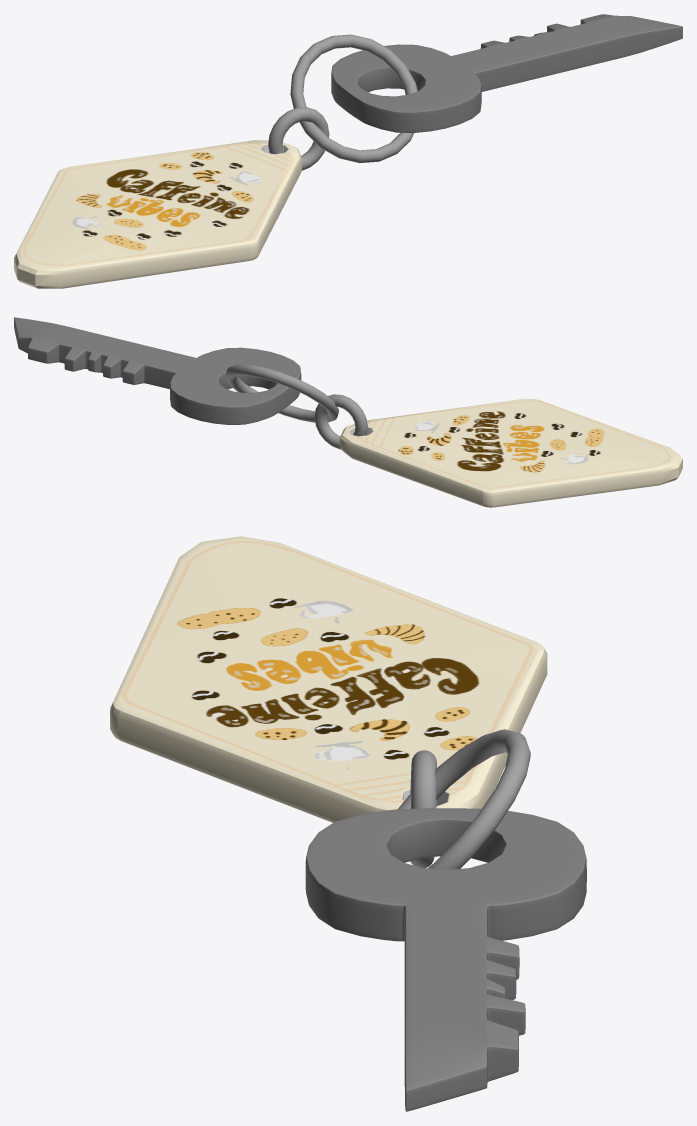
Rendered from llave_almacen_02.fbx.
The picture shows the model from 3 angles, top to bottom: view 1: azimuth 30°, elevation 25°; view 2: azimuth 150°, elevation 25°; view 3: azimuth 270°, elevation 25°; orthographic projection. The views are drawn at different scales.
Visible parts, largest first — view 1: pCube20, pCube18, pTorus1, pTorus2; view 2: pCube20, pCube18, pTorus1, pTorus2; view 3: pCube20, pCube18, pTorus1, pTorus2.
Part boxes in pixels (box(x1,y1,x2,y2)): pCube20: box(14, 140, 301, 288); pCube18: box(331, 14, 682, 132); pTorus1: box(290, 34, 417, 163); pTorus2: box(268, 107, 329, 170); pCube20: box(339, 398, 682, 507); pCube18: box(14, 317, 301, 424); pTorus1: box(225, 364, 338, 422); pTorus2: box(314, 394, 367, 449); pCube20: box(110, 536, 547, 822); pCube18: box(305, 808, 586, 1111); pTorus1: box(398, 729, 530, 869); pTorus2: box(410, 750, 436, 868).
Bounding box in the file's own units: 14.83 × 1.96 × 4.92.
3 materials, 1 textured.
